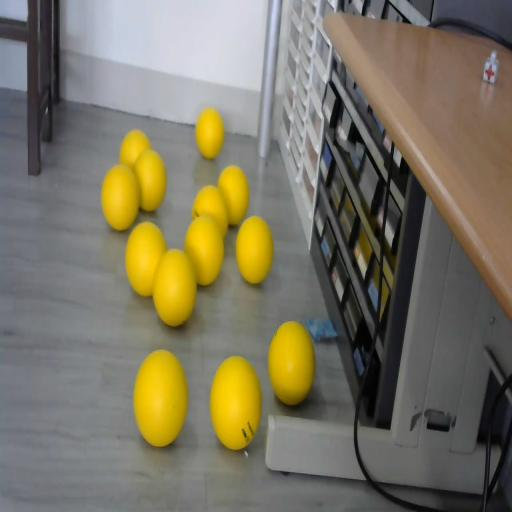FUEL: (133, 348, 188, 446), (209, 354, 262, 450), (268, 320, 314, 405), (125, 220, 166, 296), (184, 213, 225, 286), (235, 214, 274, 284), (101, 164, 140, 230), (133, 148, 167, 212), (218, 166, 250, 226), (196, 108, 224, 158)
